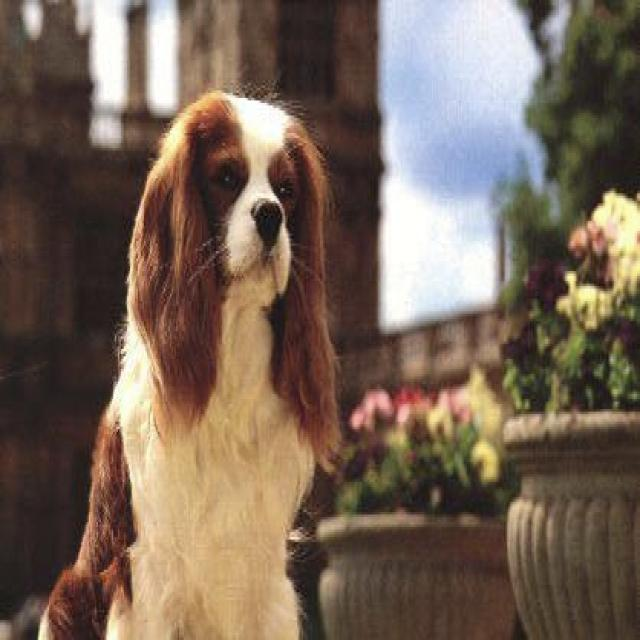blenheim_spaniel: (32, 90, 350, 638)
